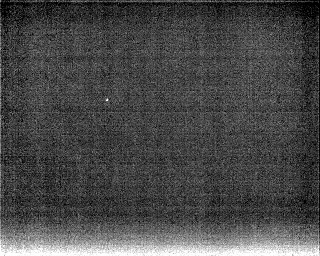BIRD: (102, 96, 111, 106)
